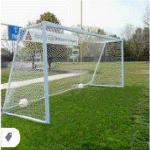goals: (4, 20, 127, 125)
